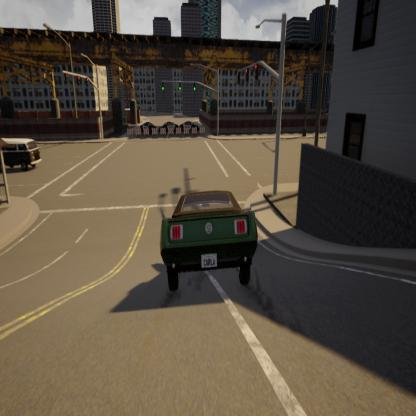Cars: (140, 176, 271, 312), (0, 126, 46, 177)
